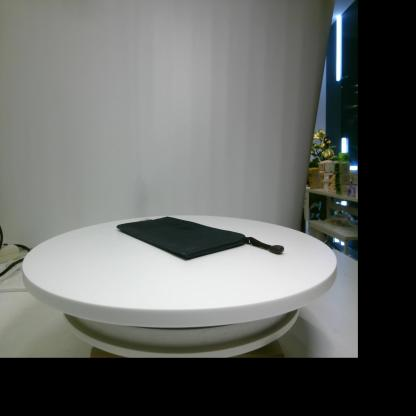Stationery: (116, 216, 284, 258)
